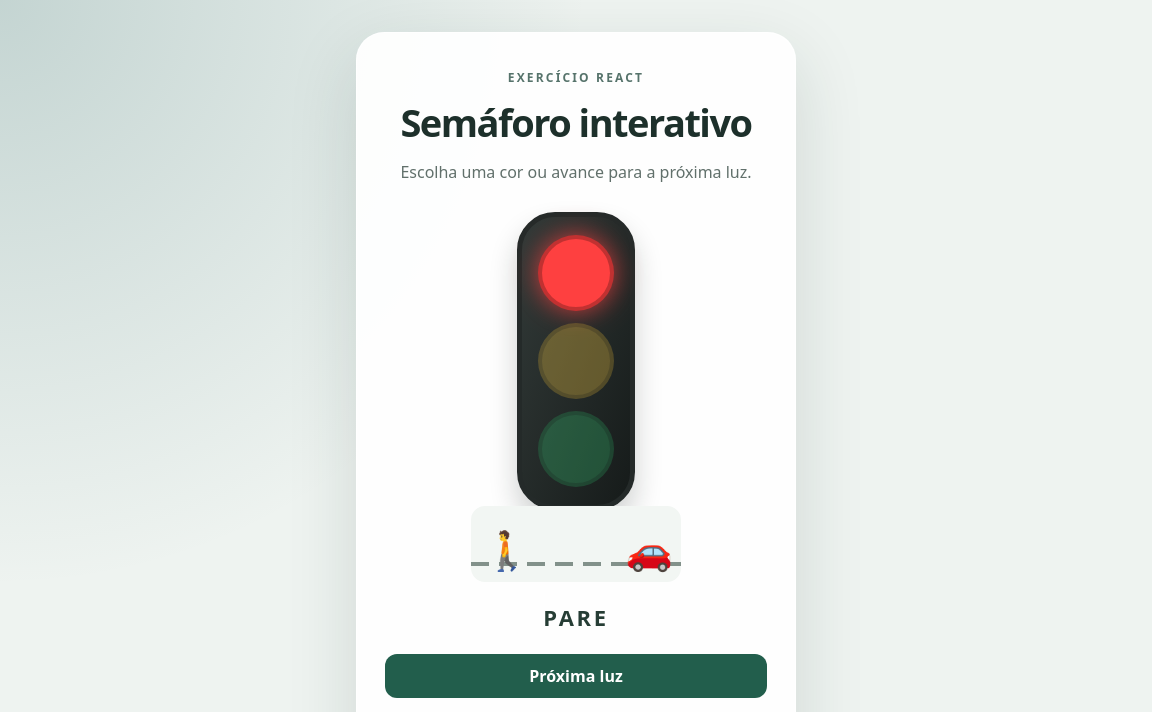
Test: advances through red, green, yellow, then red
Click the button "Próxima luz" at [576, 676], box [385,654,767,698]
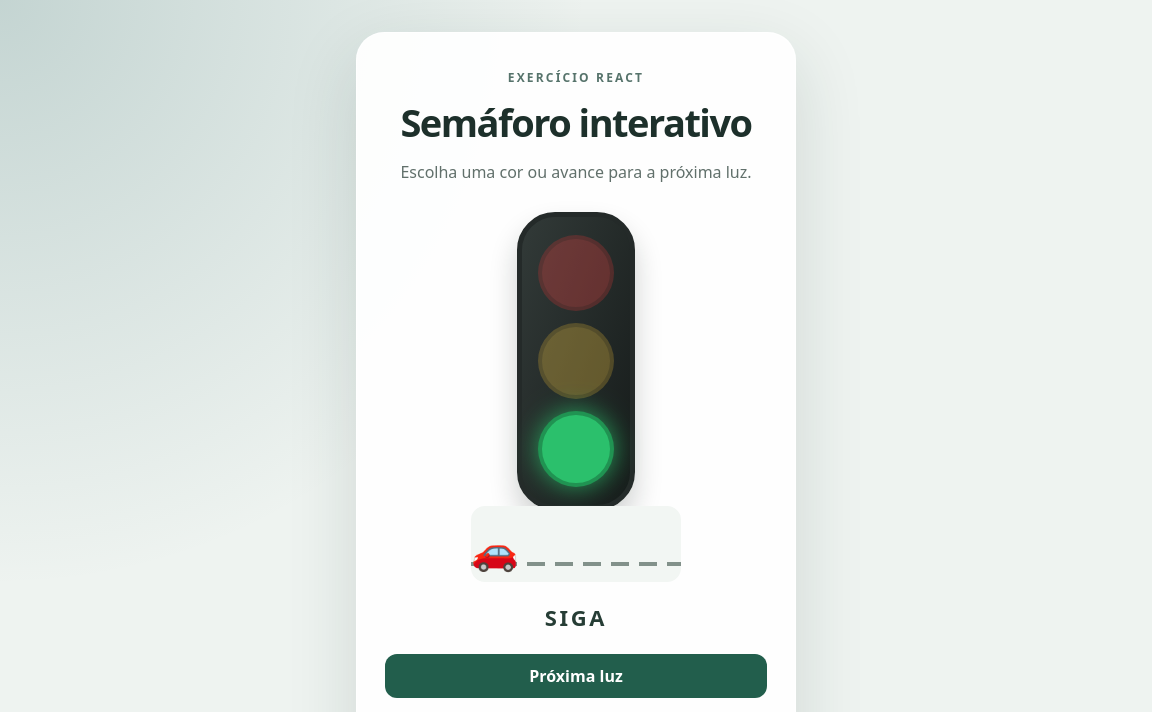
expect the message reads "SIGA": met, box [545,602,607,632]
Click the button "Próxima luz" at [576, 676], box [385,654,767,698]
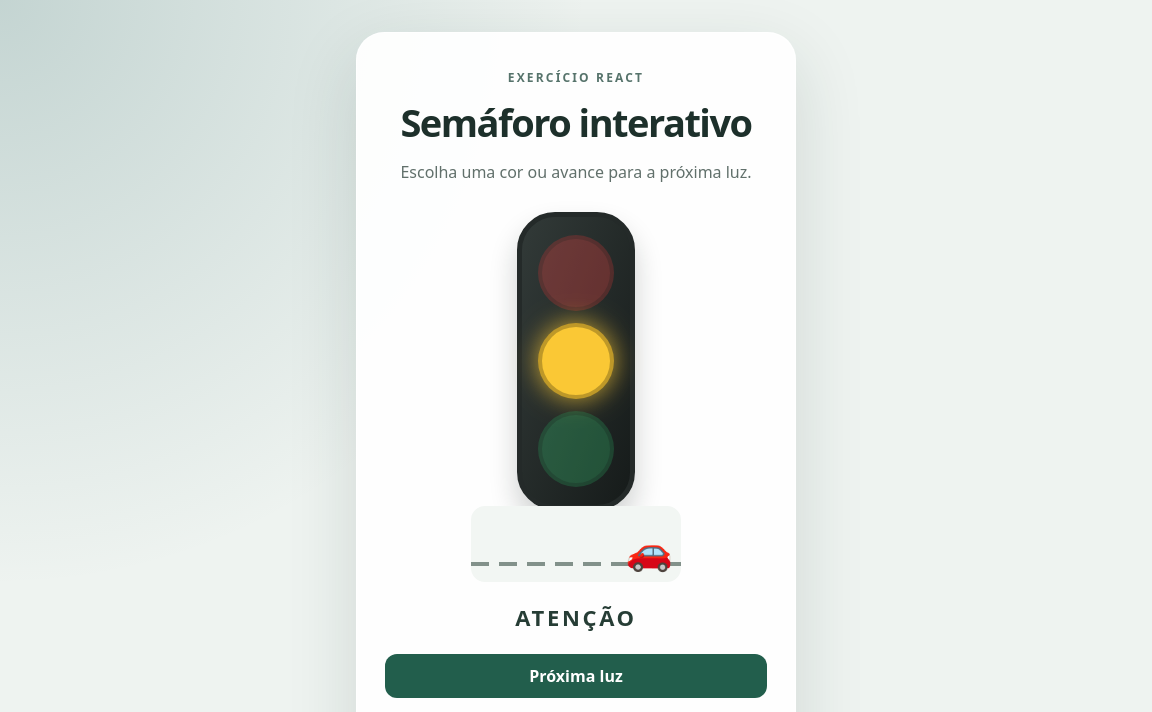
expect the message reads "ATENÇÃO": met, box [515,602,637,632]
Click the button "Próxima luz" at [576, 676], box [385,654,767,698]
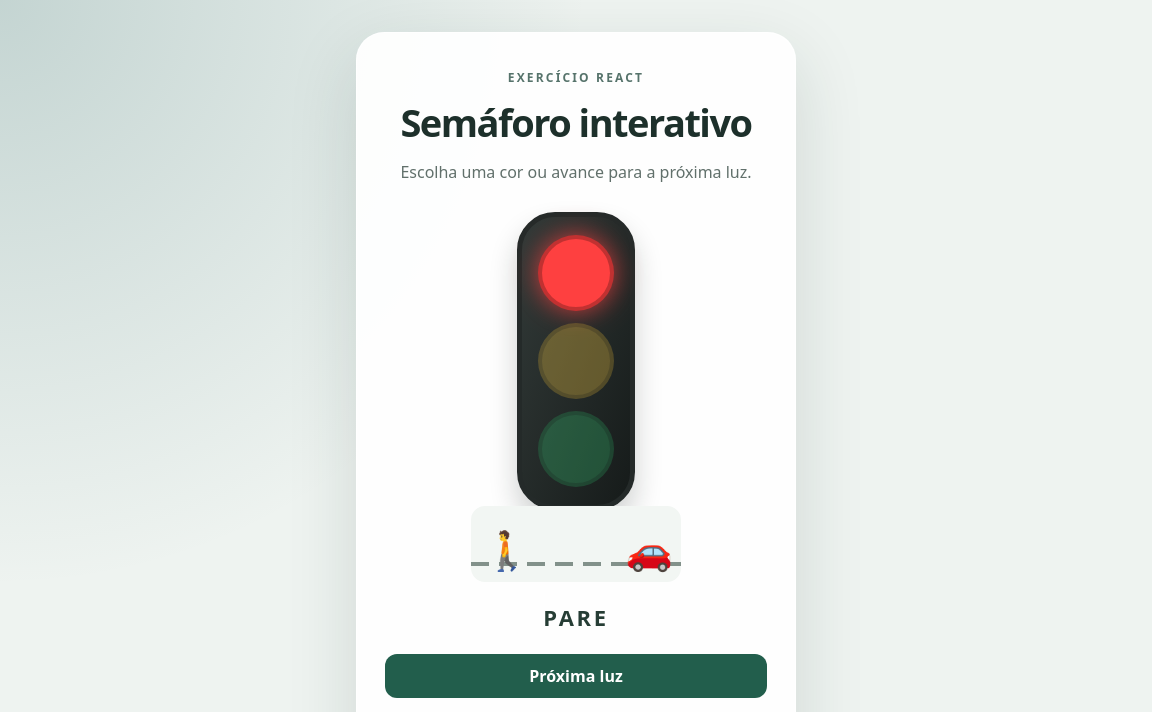
expect the message reads "PARE": met, box [543,602,609,632]
